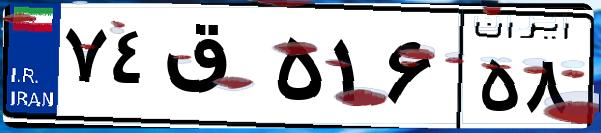1: (330, 28, 385, 110)
4: (110, 28, 158, 98)
5: (270, 28, 330, 110), (475, 38, 525, 113)
6: (385, 28, 445, 110)
7: (57, 26, 110, 100)
8: (525, 38, 570, 115)
ق: (158, 20, 270, 120)
